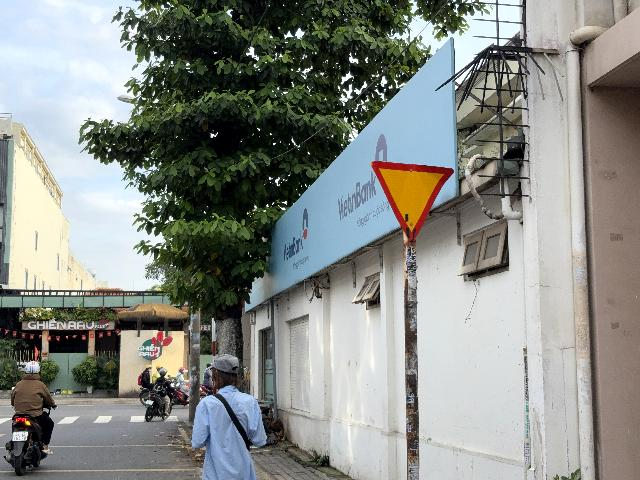giao-nhau-voi-duong-uu-tien: (370, 159, 454, 242)
